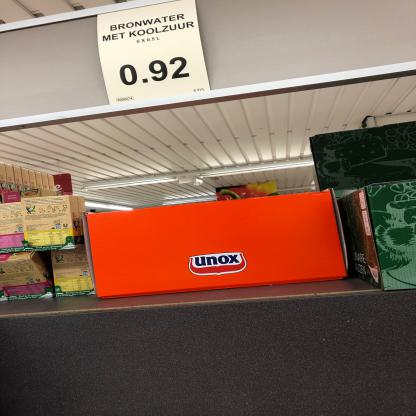prtg: (98, 1, 213, 106)
